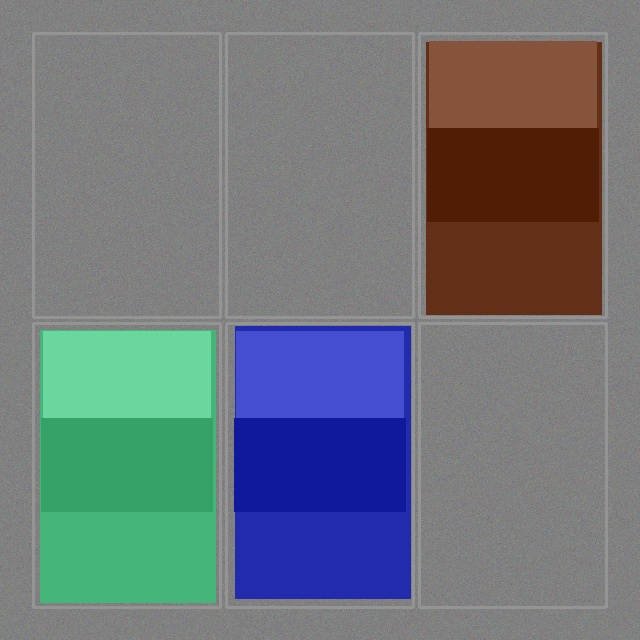space-empty: (35, 35, 218, 315), (228, 35, 411, 315), (421, 325, 604, 605)
space-occupied: (421, 35, 604, 315), (35, 325, 218, 605), (228, 325, 411, 605)
